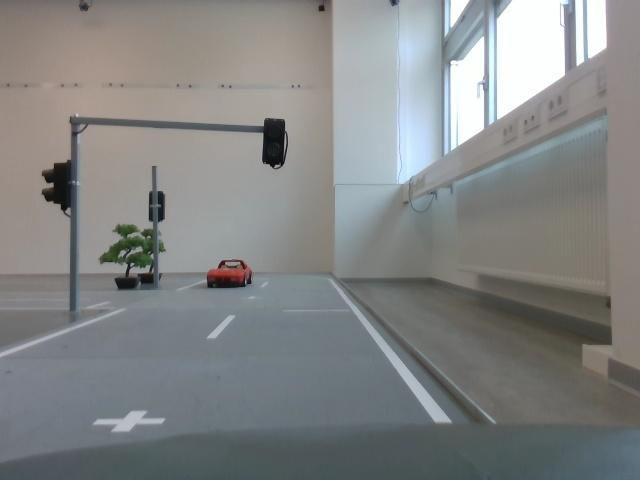car: (206, 258, 256, 292)
potted plant: (100, 220, 148, 296), (135, 228, 167, 288)
traffic light: (40, 158, 81, 219), (260, 114, 290, 175), (145, 192, 170, 226)
